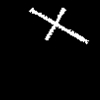single_crochet: (29, 8, 86, 43)
